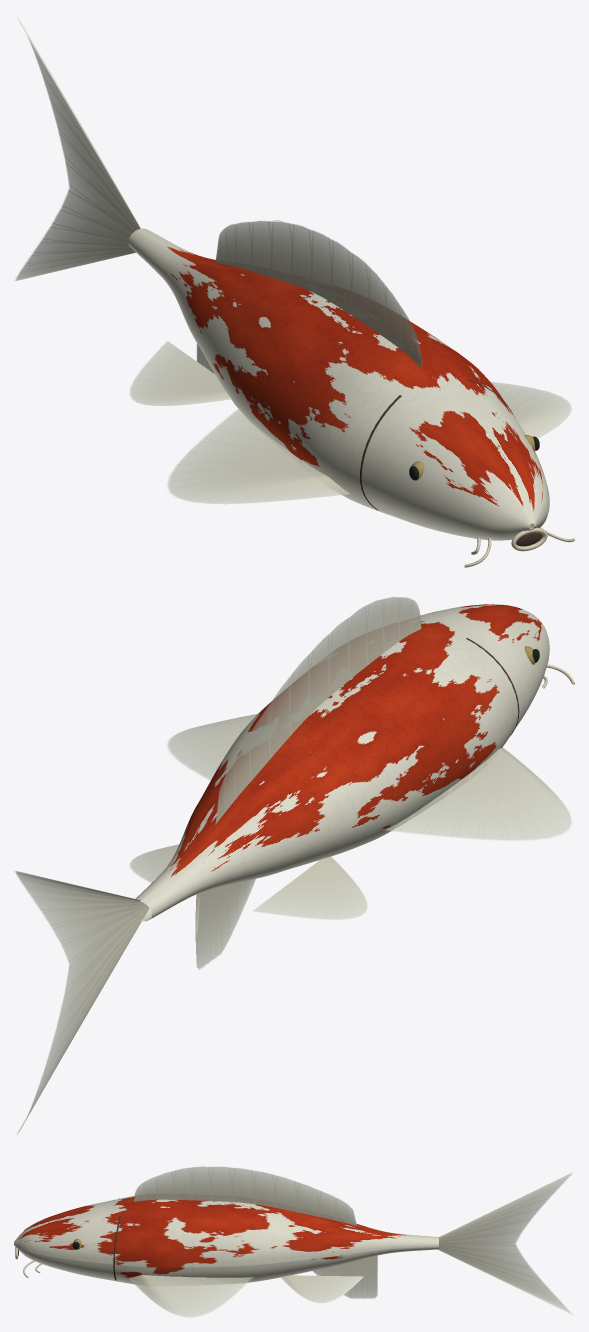
The model's file is koi.glb.
3 renders of one model, top to bottom at view 1: azimuth 30°, elevation 25°; view 2: azimuth 150°, elevation 25°; view 3: azimuth 270°, elevation 25°, orthographic. The views are drawn at different scales.
Parts seen in each view (by area): view 1: Body | scale relief and continuous flex, Dorsal fin, Dorsal fin.001, Caudal fin | vertical forked tail, Caudal fin | vertical forked tail.001, Pectoral fin -1, Pectoral fin -1.001, Pelvic fin -1, Pelvic fin -1.001, Pectoral fin 1, Pectoral fin 1.001; view 2: Body | scale relief and continuous flex, Dorsal fin, Dorsal fin.001, Caudal fin | vertical forked tail, Caudal fin | vertical forked tail.001, Pectoral fin -1, Pectoral fin -1.001, Pelvic fin -1, Pelvic fin -1.001, Anal fin, Anal fin.001, Pectoral fin 1 (+3 smaller); view 3: Body | scale relief and continuous flex, Dorsal fin, Dorsal fin.001, Caudal fin | vertical forked tail, Caudal fin | vertical forked tail.001, Pectoral fin 1, Pectoral fin 1.001, Pelvic fin 1, Pelvic fin 1.001, Anal fin, Anal fin.001.
Boxes of the visible parts, <box> form: Body | scale relief and continuous flex: <box>128,228,549,540</box>; Dorsal fin: <box>215,221,421,367</box>; Dorsal fin.001: <box>216,221,421,367</box>; Caudal fin | vertical forked tail: <box>16,19,140,280</box>; Caudal fin | vertical forked tail.001: <box>17,21,140,279</box>; Pectoral fin -1: <box>168,409,349,503</box>; Pectoral fin -1.001: <box>169,410,349,502</box>; Pelvic fin -1: <box>130,342,230,405</box>; Pelvic fin -1.001: <box>131,342,229,405</box>; Pectoral fin 1: <box>491,382,570,437</box>; Pectoral fin 1.001: <box>491,382,570,437</box>; Body | scale relief and continuous flex: <box>135,604,549,921</box>; Dorsal fin: <box>215,597,421,824</box>; Dorsal fin.001: <box>216,597,421,823</box>; Caudal fin | vertical forked tail: <box>16,871,149,1132</box>; Caudal fin | vertical forked tail.001: <box>17,872,148,1130</box>; Pectoral fin -1: <box>387,747,570,839</box>; Pectoral fin -1.001: <box>387,748,570,839</box>; Pelvic fin -1: <box>254,857,366,918</box>; Pelvic fin -1.001: <box>254,857,366,918</box>; Anal fin: <box>195,879,255,968</box>; Anal fin.001: <box>196,879,255,968</box>; Pectoral fin 1: <box>169,714,256,779</box>; Body | scale relief and continuous flex: <box>14,1196,438,1284</box>; Dorsal fin: <box>134,1167,356,1225</box>; Dorsal fin.001: <box>134,1167,356,1225</box>; Caudal fin | vertical forked tail: <box>438,1173,571,1313</box>; Caudal fin | vertical forked tail.001: <box>438,1174,570,1312</box>; Pectoral fin 1: <box>129,1275,251,1316</box>; Pectoral fin 1.001: <box>129,1275,251,1316</box>; Pelvic fin 1: <box>281,1275,361,1302</box>; Pelvic fin 1.001: <box>281,1275,360,1302</box>; Anal fin: <box>313,1256,377,1297</box>; Anal fin.001: <box>313,1256,377,1297</box>.
Bounding box in the file's own units: 0.7277 × 0.4869 × 1.65.
Materials: 9 (5 with a texture image).
